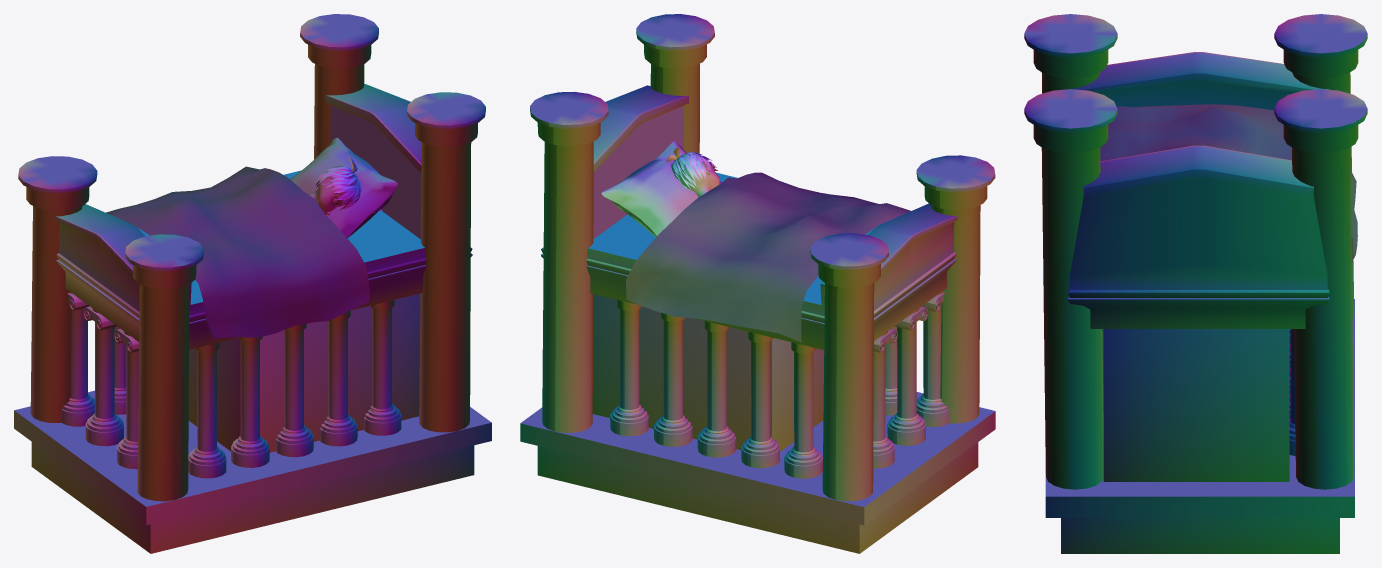
File: bedfinal.fbx
The picture shows the model from 3 angles, left to right: view 1: azimuth 30°, elevation 25°; view 2: azimuth 150°, elevation 25°; view 3: azimuth 270°, elevation 25°; orthographic projection. The views are drawn at different scales.
Parts seen in each view (by area): view 1: pCube25, Plane.003, Pillow_Left, Circle.001; view 2: pCube25, Plane.003, Pillow_Left, Circle.001; view 3: pCube25, Plane.003.
Part boxes in pixels (x1,y1,x2,y2): pCube25: (14, 14, 491, 553); Plane.003: (106, 166, 369, 338); Pillow_Left: (290, 137, 397, 237); Circle.001: (309, 155, 382, 215); pCube25: (520, 14, 995, 553); Plane.003: (626, 172, 910, 342); Pillow_Left: (601, 140, 721, 236); Circle.001: (666, 148, 719, 197); pCube25: (1024, 14, 1367, 553); Plane.003: (1100, 104, 1357, 261).
Size of the model in its own units: 14.21 by 14.26 by 10.29.
